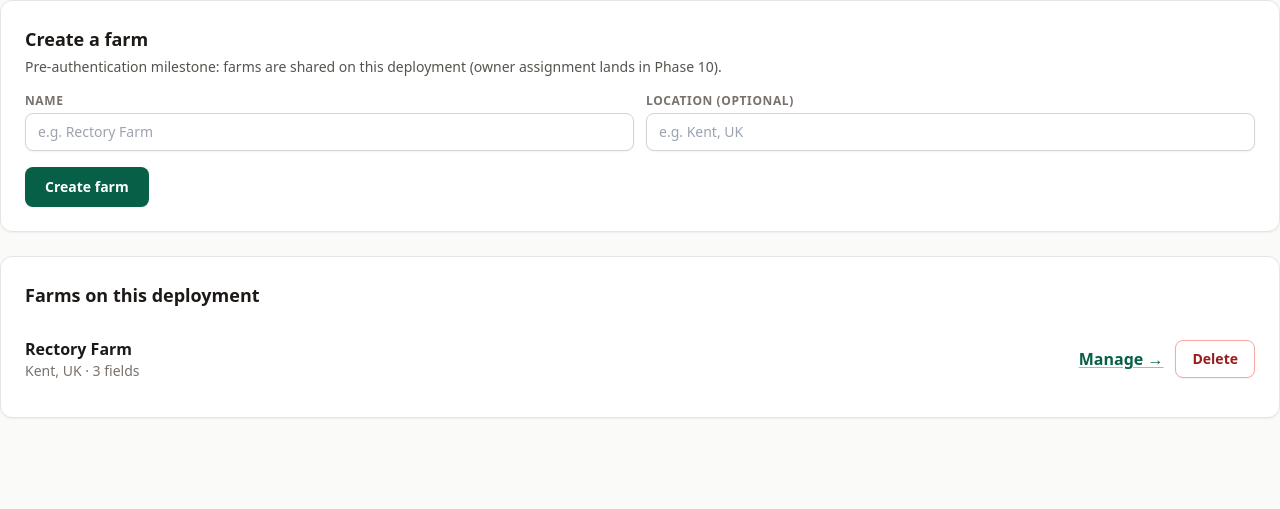
Test: FarmsManager › surfaces a delete 409 with the honest blocking counts
The width and height of the screenshot is (1280, 509).
Check: the link "Rectory Farm" is shown, box [25,338,132,360]
Click the button "Delete". click: (1215, 359)
box: [1176,340,1255,378]
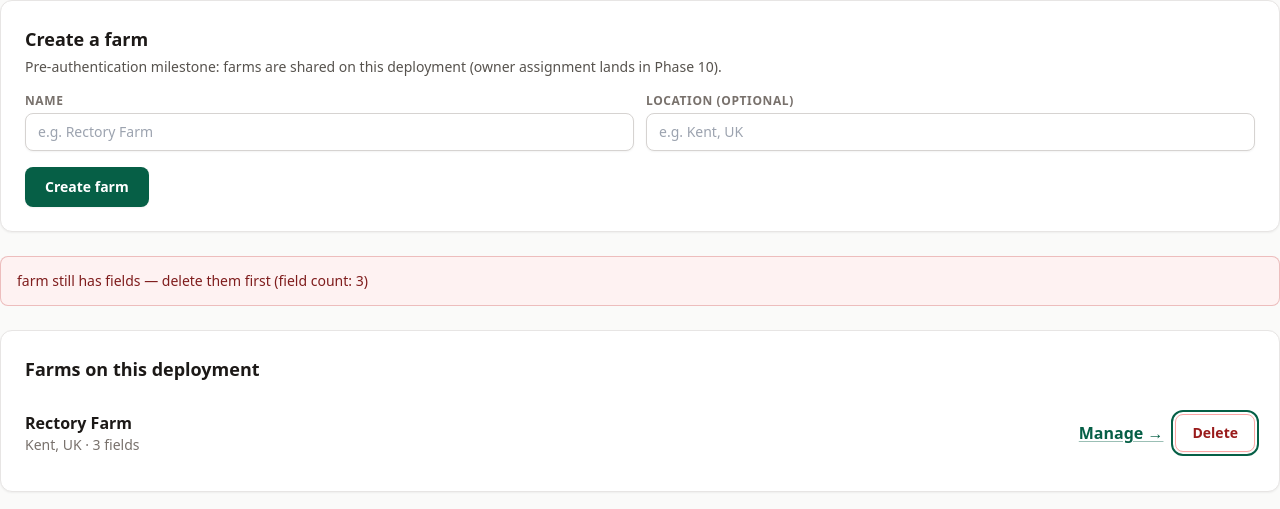
Check: the message shows "farm still has fields", box [17,271,368,290]
Check: the message shows "field count: 3", box [17,271,368,290]
